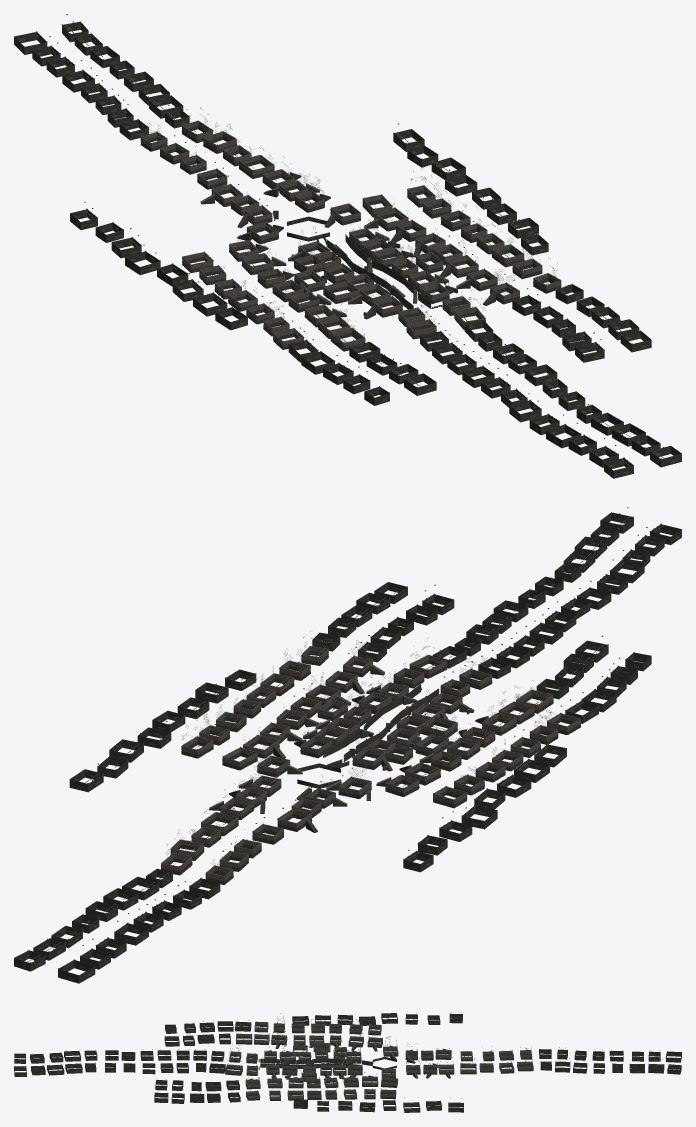
Rendered from canal_masonry.glb.
3 views of the same model, one above another, from view 1: azimuth 30°, elevation 25°; view 2: azimuth 150°, elevation 25°; view 3: azimuth 270°, elevation 25° (orthographic). The views are drawn at different scales.
Parts seen in each view (by area): view 1: canal_masonry18, canal_masonry8, canal_masonry10, canal_masonry14, canal_masonry7, canal_masonry0, canal_masonry9, canal_masonry15, canal_masonry12, canal_masonry11, canal_masonry17, canal_masonry16 (+7 smaller); view 2: canal_masonry18, canal_masonry8, canal_masonry10, canal_masonry14, canal_masonry7, canal_masonry0, canal_masonry11, canal_masonry16, canal_masonry12, canal_masonry9, canal_masonry13, canal_masonry4 (+7 smaller); view 3: canal_masonry18, canal_masonry8, canal_masonry10, canal_masonry14, canal_masonry0, canal_masonry7, canal_masonry16, canal_masonry11, canal_masonry9, canal_masonry15, canal_masonry12, canal_masonry13 (+7 smaller).
Part boxes in pixels (left/top/right/bottom): canal_masonry18: left=70, top=123, right=651, bottom=362; canal_masonry8: left=197, top=147, right=681, bottom=478; canal_masonry10: left=14, top=14, right=264, bottom=272; canal_masonry14: left=288, top=167, right=436, bottom=405; canal_masonry7: left=200, top=172, right=470, bottom=339; canal_masonry0: left=287, top=216, right=431, bottom=309; canal_masonry9: left=140, top=123, right=254, bottom=174; canal_masonry15: left=364, top=183, right=470, bottom=252; canal_masonry12: left=228, top=269, right=331, bottom=336; canal_masonry11: left=199, top=243, right=294, bottom=304; canal_masonry17: left=439, top=238, right=542, bottom=293; canal_masonry16: left=413, top=216, right=504, bottom=277; canal_masonry18: left=69, top=582, right=566, bottom=872; canal_masonry8: left=201, top=507, right=681, bottom=844; canal_masonry10: left=14, top=772, right=467, bottom=983; canal_masonry14: left=181, top=635, right=651, bottom=770; canal_masonry7: left=209, top=663, right=492, bottom=832; canal_masonry0: left=297, top=684, right=438, bottom=788; canal_masonry11: left=376, top=735, right=505, bottom=795; canal_masonry16: left=233, top=678, right=340, bottom=729; canal_masonry12: left=447, top=723, right=550, bottom=771; canal_masonry9: left=170, top=805, right=261, bottom=884; canal_masonry13: left=475, top=700, right=580, bottom=744; canal_masonry4: left=317, top=692, right=457, bottom=798; canal_masonry18: left=154, top=1012, right=463, bottom=1112; canal_masonry8: left=14, top=1042, right=476, bottom=1076; canal_masonry10: left=367, top=1024, right=681, bottom=1074; canal_masonry14: left=164, top=1019, right=398, bottom=1099; canal_masonry0: left=260, top=1043, right=396, bottom=1069; canal_masonry7: left=229, top=1045, right=450, bottom=1079; canal_masonry16: left=288, top=1073, right=338, bottom=1099; canal_masonry11: left=312, top=1019, right=377, bottom=1051; canal_masonry9: left=461, top=1046, right=531, bottom=1073; canal_masonry15: left=324, top=1072, right=378, bottom=1099; canal_masonry12: left=273, top=1018, right=324, bottom=1047; canal_masonry13: left=254, top=1013, right=287, bottom=1048.
Bounding box in the file's own units: 117 × 9.12 × 346.
Materials: 1 (1 with a texture image).
